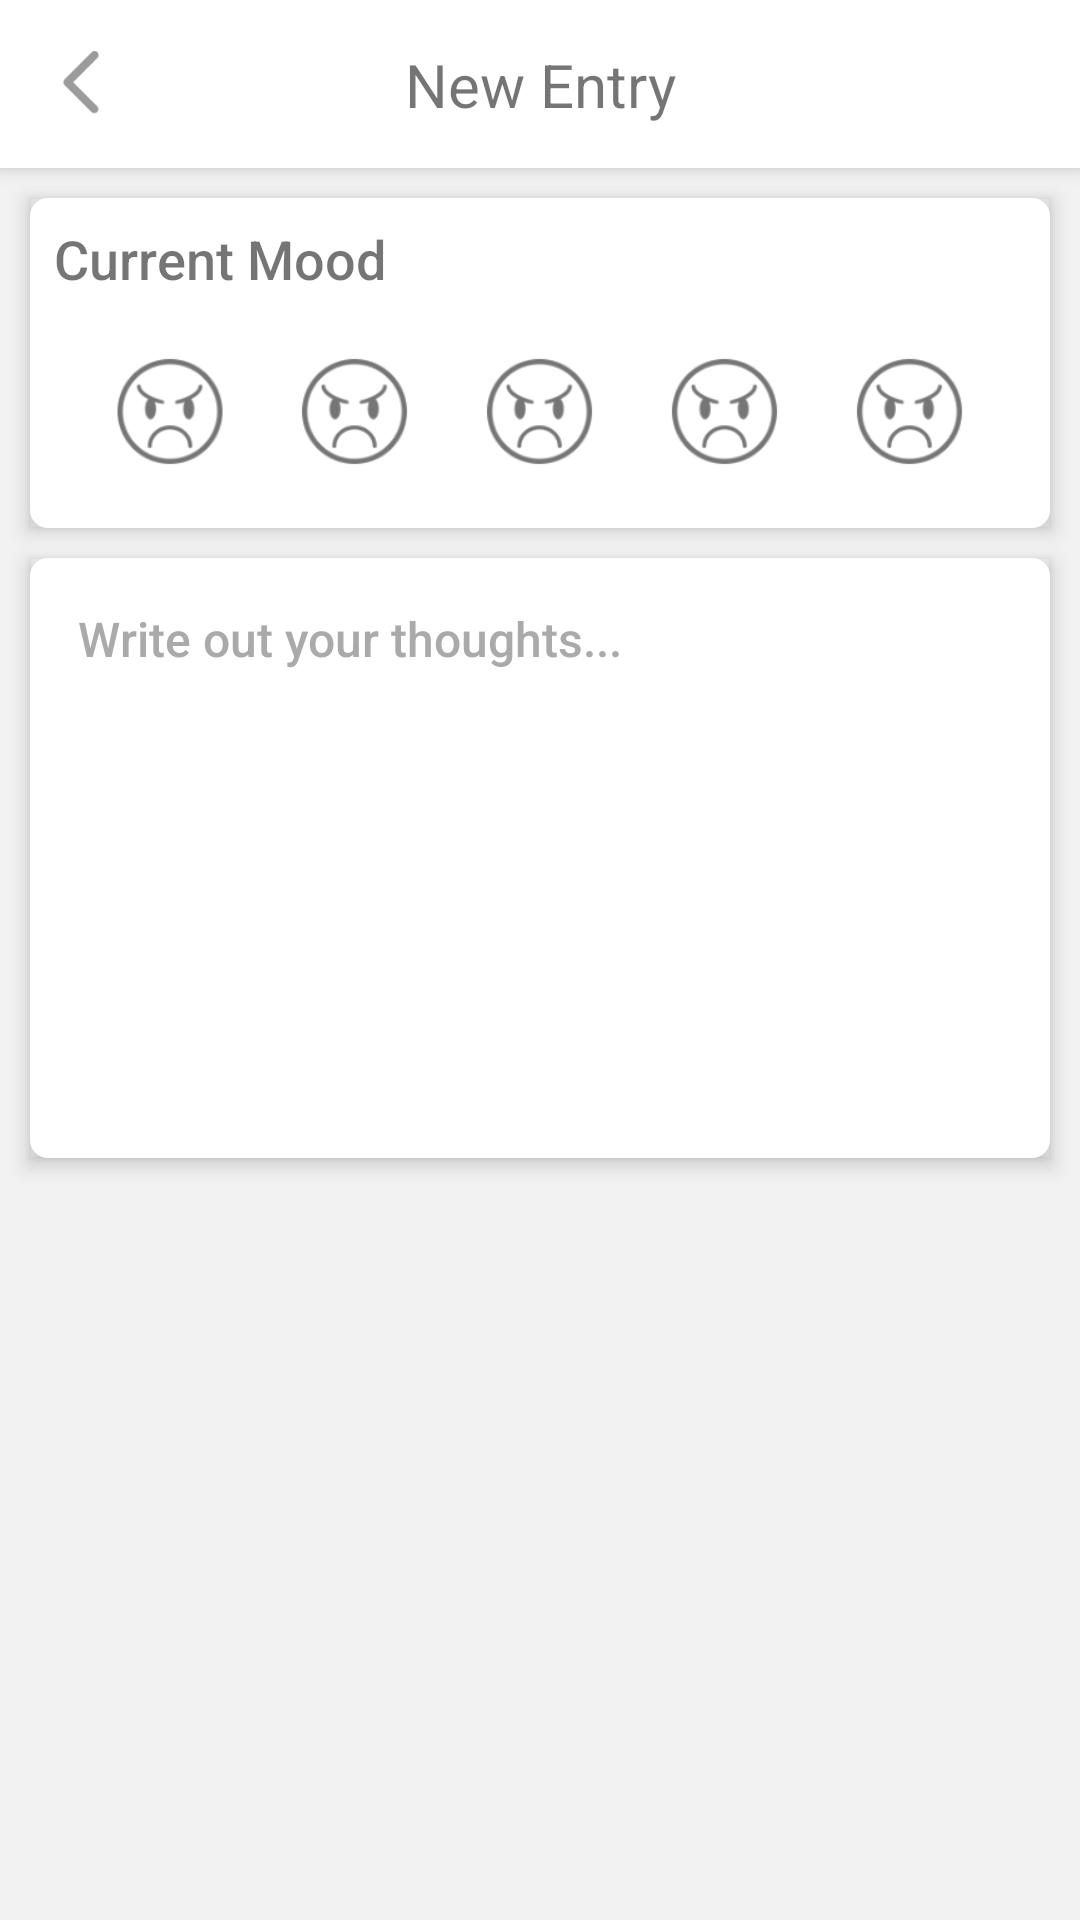

Where icons sit on this 1080w x 1920h app screen, as (x1, y1, x2, y2):
angry emoji: (117, 359, 223, 464), (302, 359, 407, 464), (487, 359, 592, 464), (672, 359, 777, 464), (857, 359, 962, 464)
back rounded: (63, 51, 99, 113)
